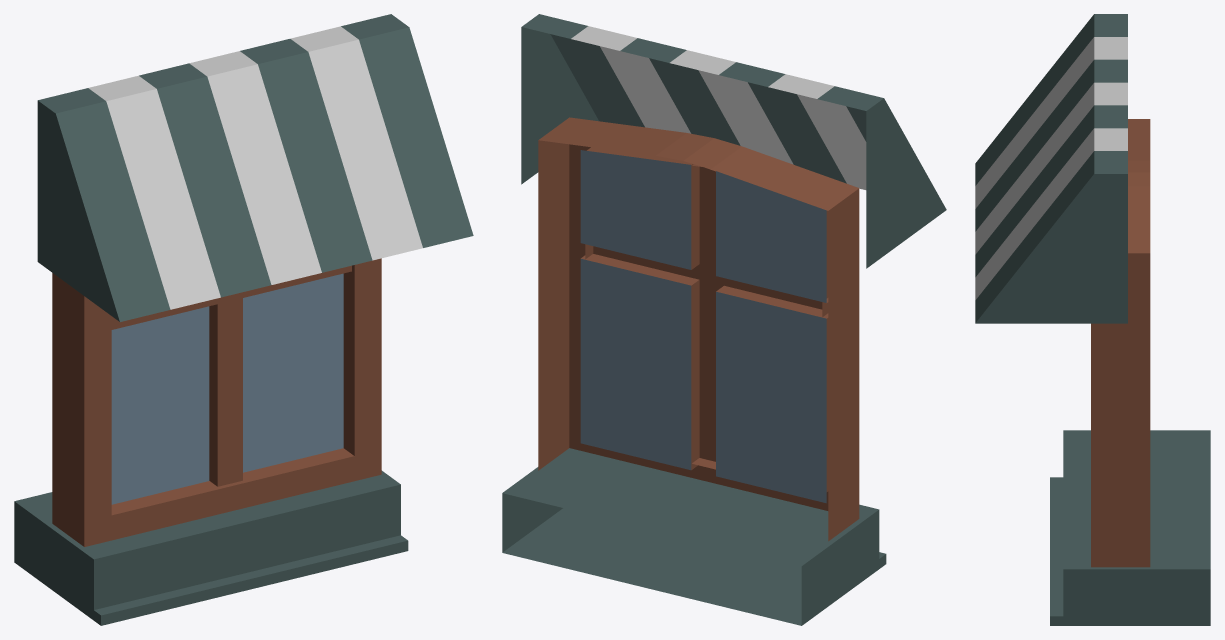
File: Window_Roof.glb
3 views of the same model, side by side, from view 1: azimuth 30°, elevation 25°; view 2: azimuth 150°, elevation 25°; view 3: azimuth 270°, elevation 25° (orthographic). The views are drawn at different scales.
Visible parts, largest first — view 1: Window_Roof; view 2: Window_Roof; view 3: Window_Roof.
Boxes of the visible parts, x1,y1,x2,y2 form: Window_Roof: (14,14,473,625); Window_Roof: (502,14,946,625); Window_Roof: (975,14,1210,625).
Size of the model in its own units: 0.3603 by 0.4869 by 0.2243.
1 material, 1 textured.
